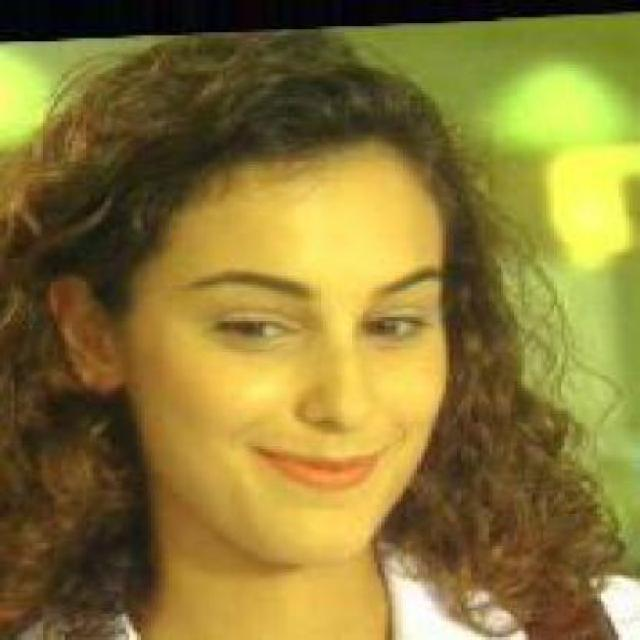closed-mouth: (247, 446, 393, 492)
